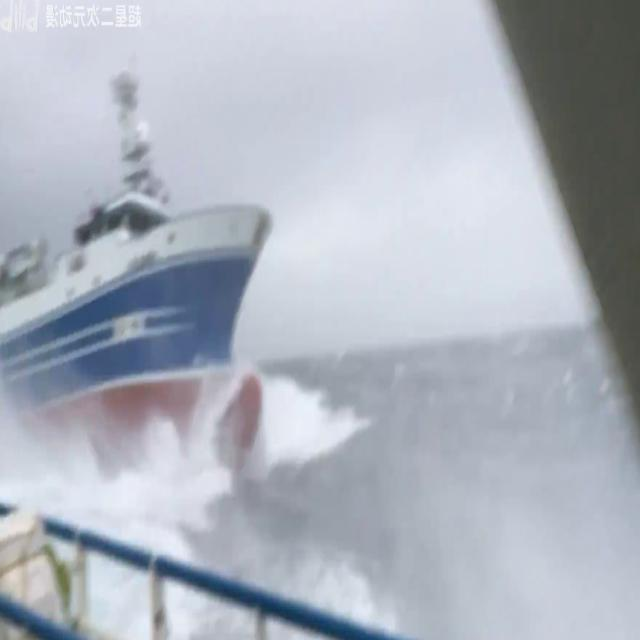houseboat: (0, 74, 287, 496)
